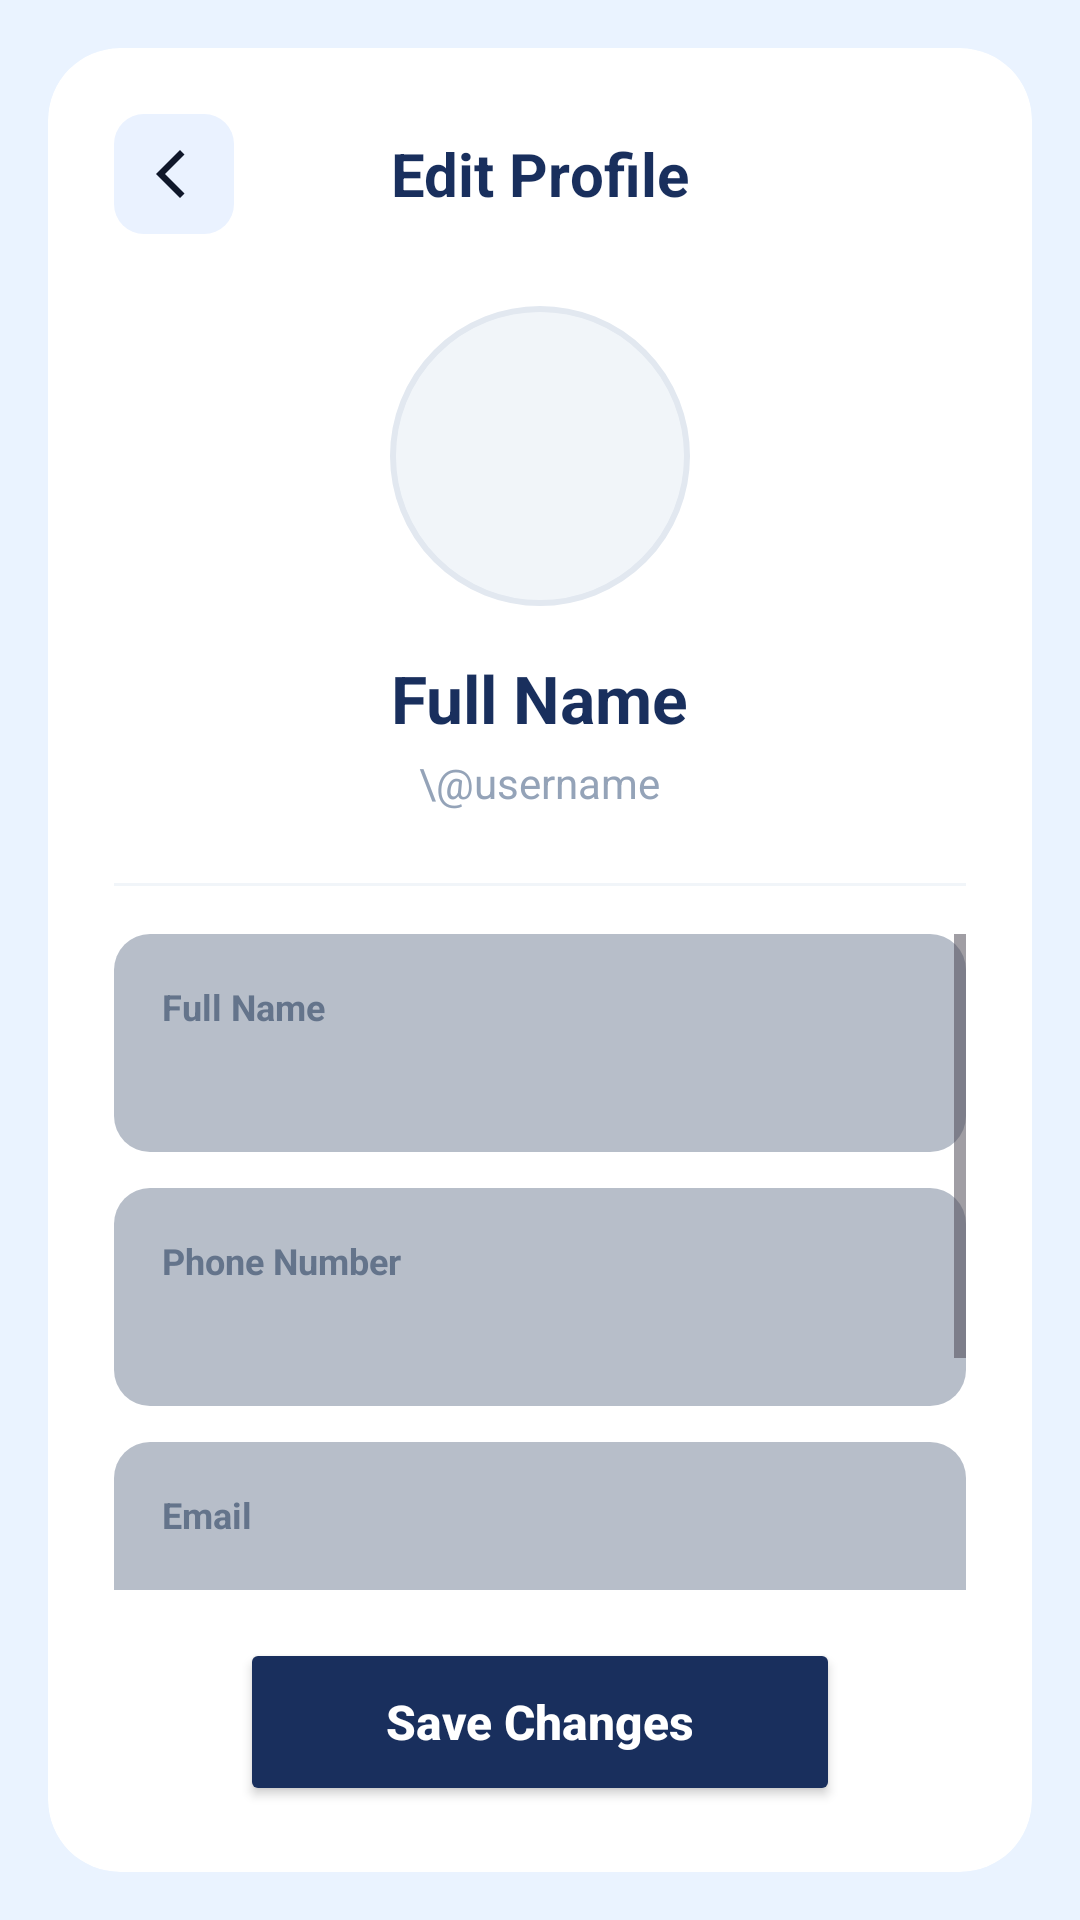

Icons on this 1080x1920 Android screen, each with its box as (x1, y1, x2, y2):
back: (114, 114, 234, 234)
